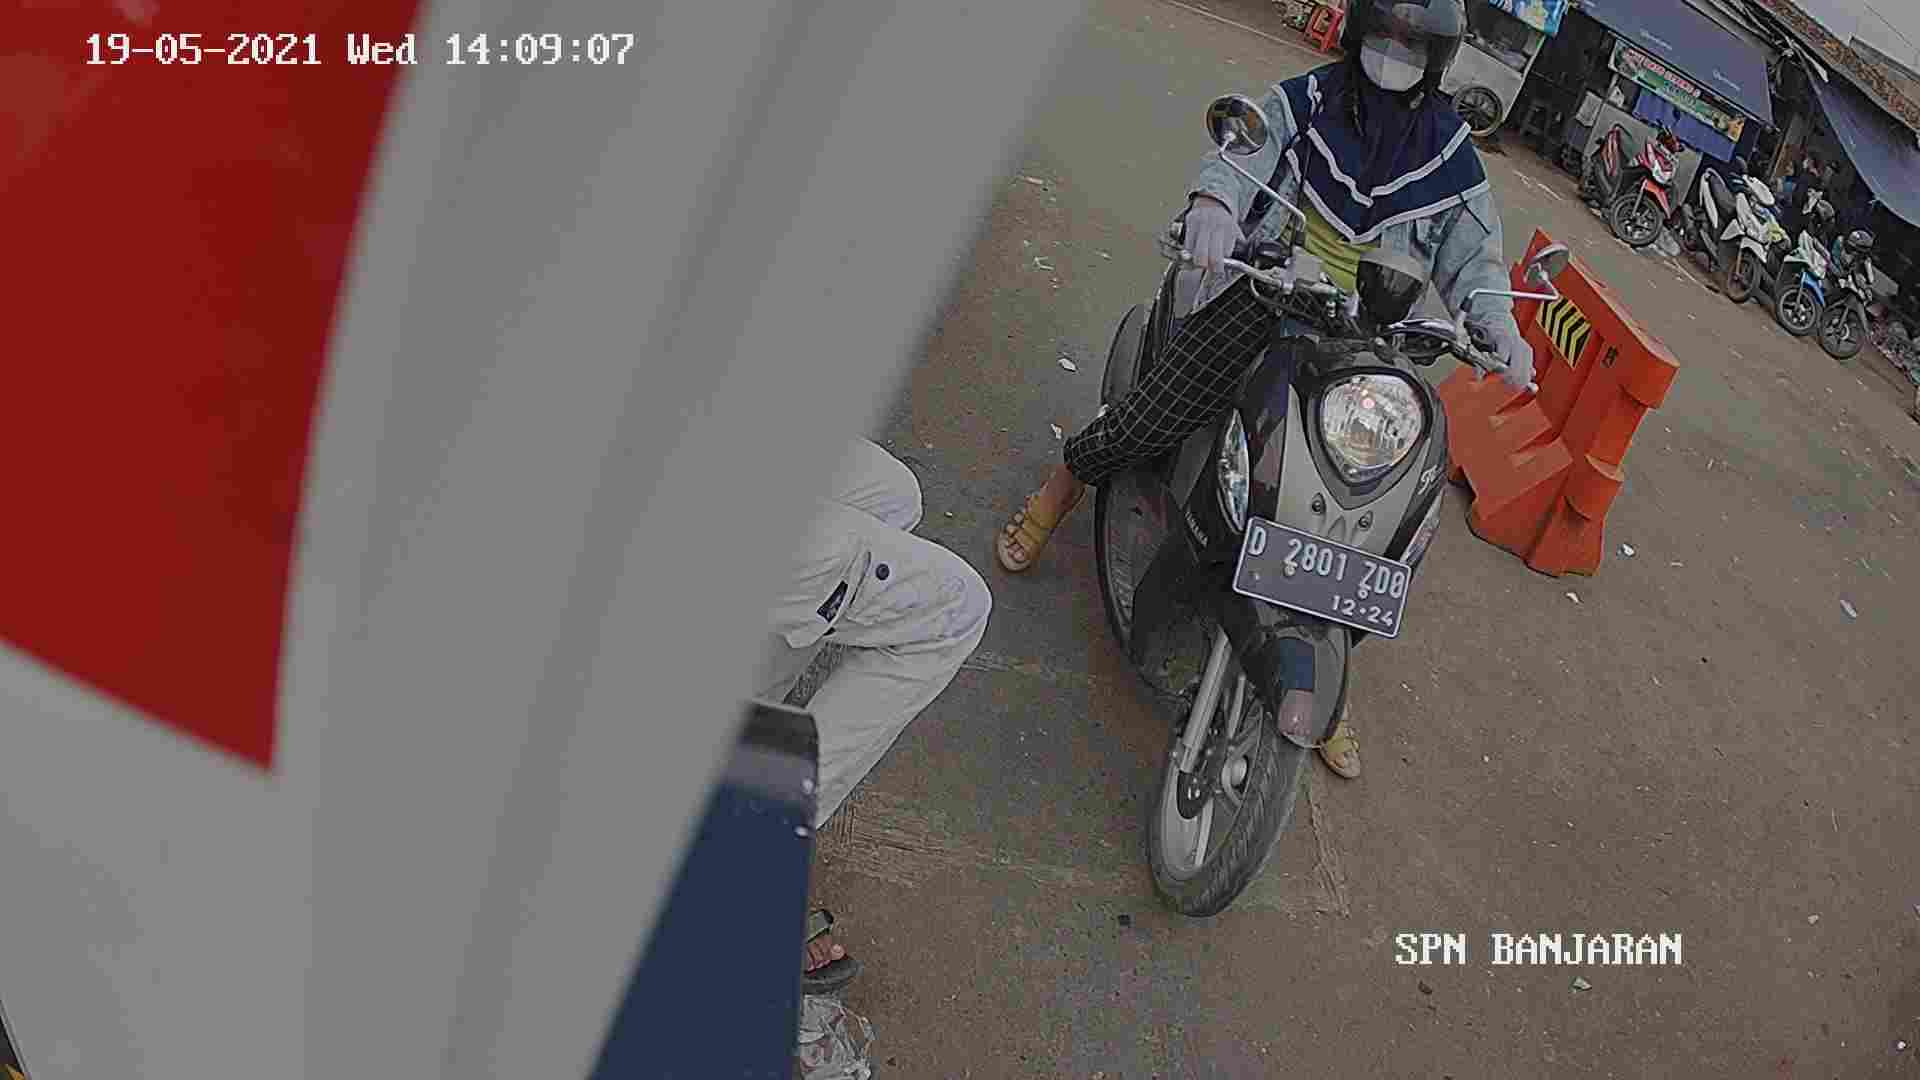motor: (1137, 253, 1469, 901)
